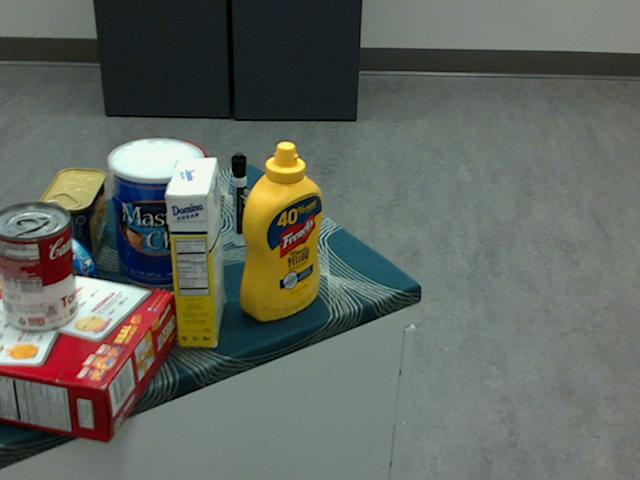cracker_box: (0, 260, 175, 442)
large_marker: (231, 152, 248, 245)
master_chef_can: (106, 137, 204, 288)
mug: (121, 140, 212, 221)
mustard_bottle: (239, 140, 323, 320)
potted_meat_can: (39, 166, 106, 270)
sugar_box: (164, 155, 225, 348)
tomato_soup_can: (0, 202, 77, 332)
tuna_fish_can: (12, 232, 97, 317)
